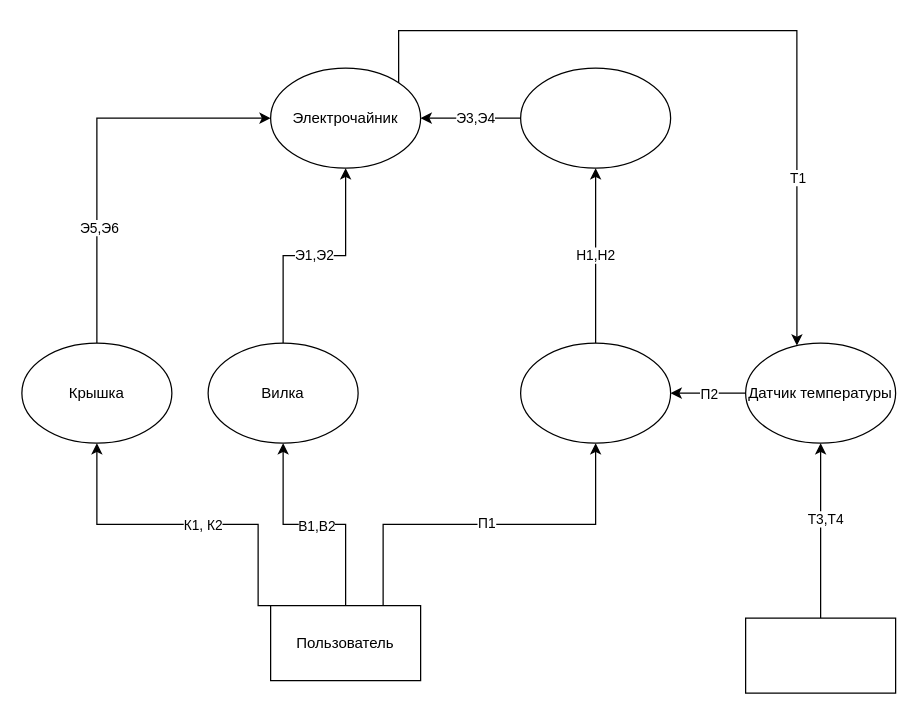
The diagram is 918 pixels wide and 715 high, and some of its shapes have lost their labels. Here are the shapes that lost their labels. From the top down, the centre of each, then its label:
At point 595,117: "Нагреватель".
At point 595,392: "Переключатель".
At point 820,655: "Температура жидкости".
